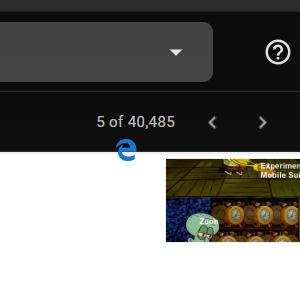edge: (115, 138, 136, 161)
